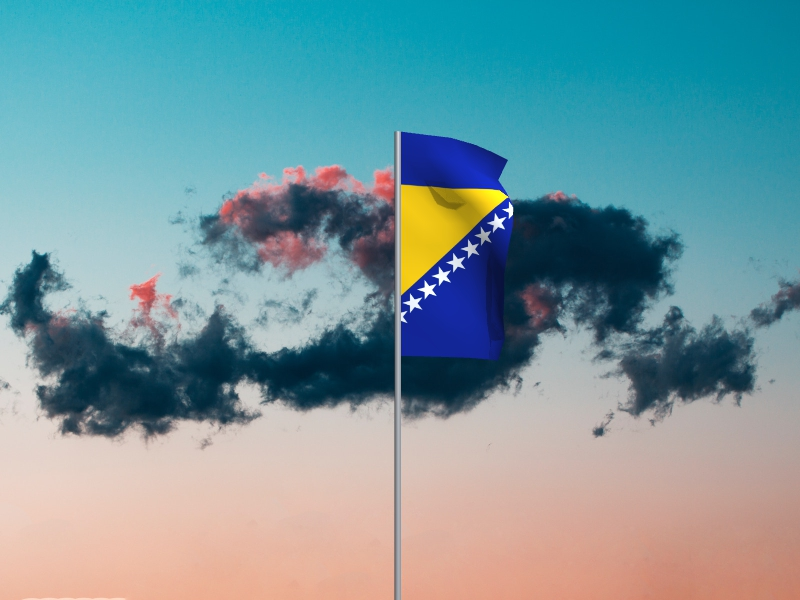ba: (402, 132, 516, 363)
